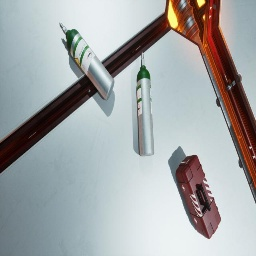0: (59, 22, 114, 101), (136, 52, 154, 156)
FirstAidBox ,: (176, 155, 221, 239)
